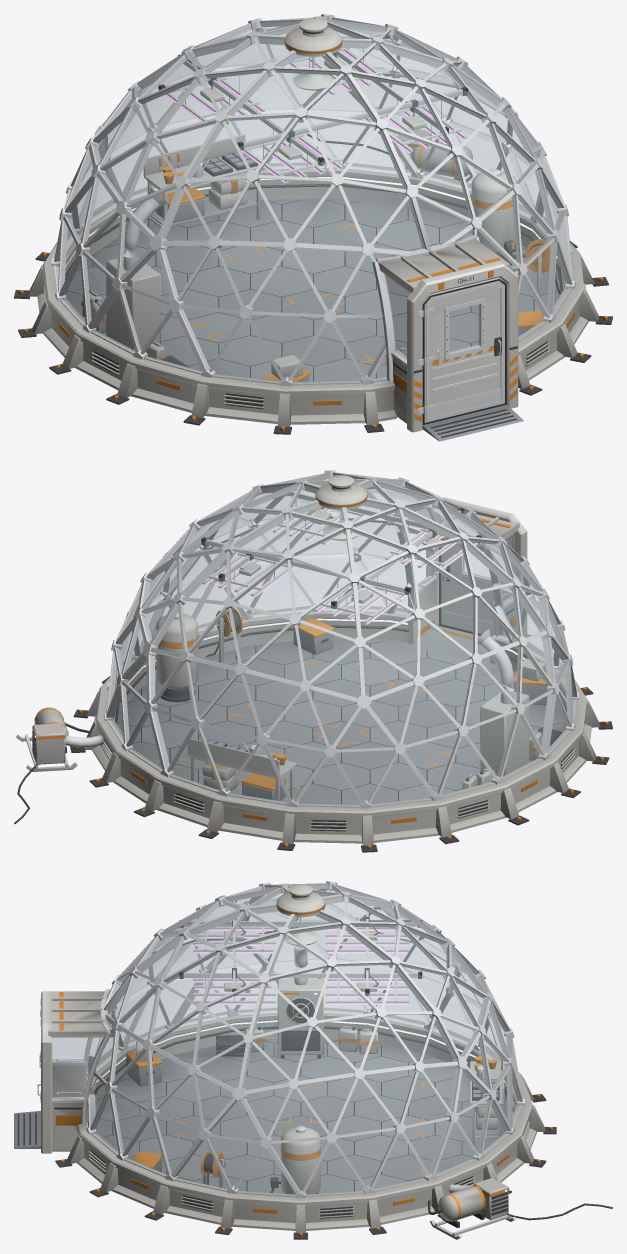
The model's file is greenhouse.glb.
3 renders of one model, top to bottom at view 1: azimuth 30°, elevation 25°; view 2: azimuth 150°, elevation 25°; view 3: azimuth 270°, elevation 25°, orthographic. The views are drawn at different scales.
Visible parts, largest first — view 1: greenhouse_mesh, door_leaf_mesh; view 2: greenhouse_mesh, door_leaf_mesh; view 3: greenhouse_mesh.
Boxes of the visible parts, bbox=[...] form: greenhouse_mesh: bbox=[14, 14, 612, 441]; door_leaf_mesh: bbox=[422, 277, 506, 424]; greenhouse_mesh: bbox=[14, 470, 612, 852]; door_leaf_mesh: bbox=[439, 535, 512, 636]; greenhouse_mesh: bbox=[14, 881, 612, 1239].
Size of the model in its own units: 9.34 by 4.93 by 10.82.
